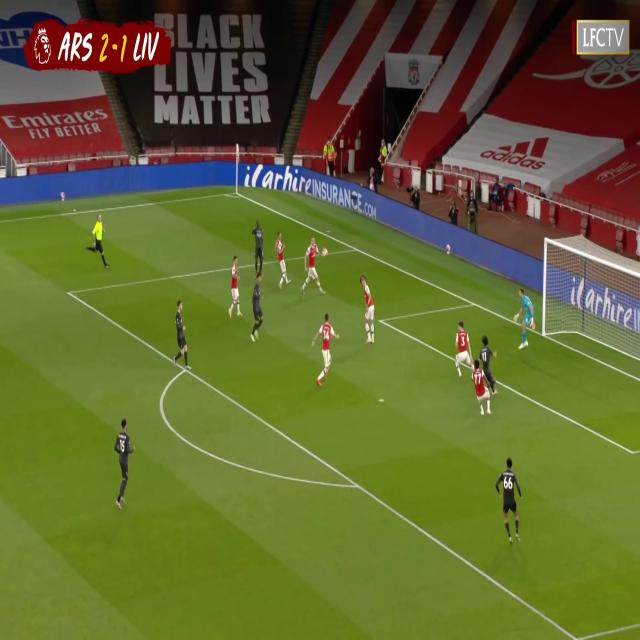Ball: (322, 244, 328, 264)
GoalKeeper: (514, 286, 537, 352)
TEAM 1: (312, 317, 337, 389), (300, 236, 326, 295), (471, 356, 490, 422), (454, 322, 474, 380), (362, 273, 378, 345), (228, 256, 242, 320), (275, 233, 289, 288)
TEAM 2: (496, 457, 524, 546), (114, 419, 136, 506), (480, 330, 498, 402), (175, 298, 190, 366), (252, 274, 265, 344), (254, 223, 267, 276)
